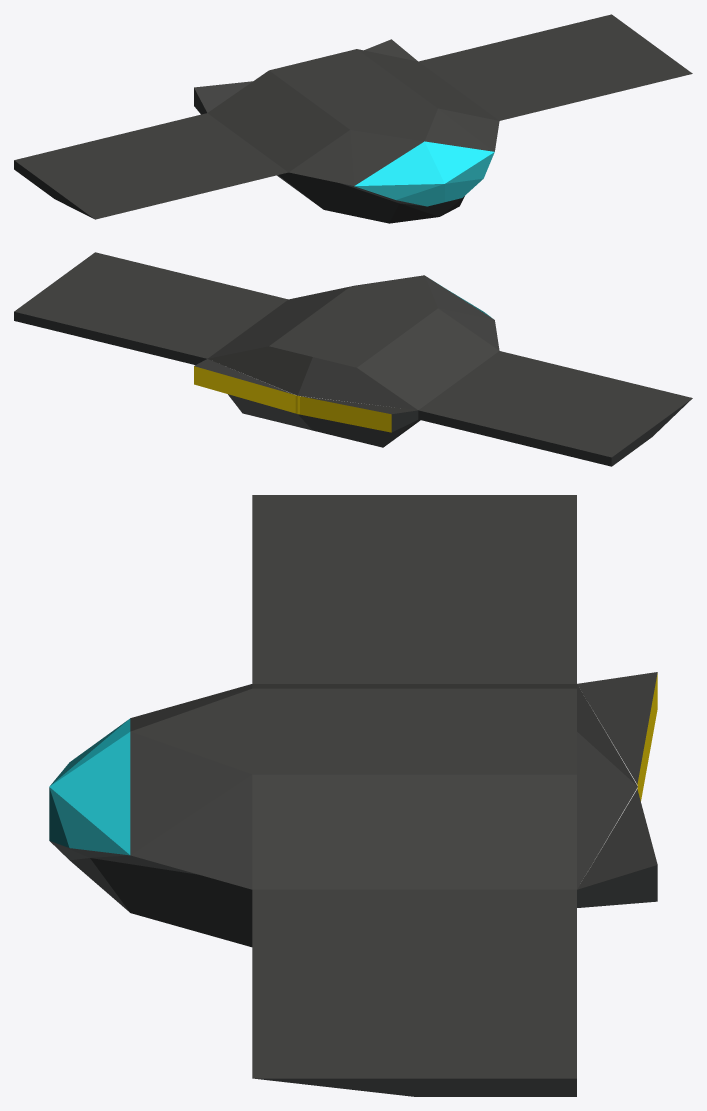
Rendered from elelestarfighter.gltf.
3 views of the same model, one above another, from view 1: azimuth 30°, elevation 25°; view 2: azimuth 150°, elevation 25°; view 3: azimuth 270°, elevation 25° (orthographic). The views are drawn at different scales.
Parts seen in each view (by area): view 1: cuboid; view 2: cuboid; view 3: cuboid.
Boxes of the visible parts, left/top/right/bottom form: cuboid: left=14, top=14, right=692, bottom=223; cuboid: left=14, top=252, right=692, bottom=466; cuboid: left=49, top=495, right=657, bottom=1096.
Bounding box in the file's own units: 4.25 × 0.5 × 1.87.
1 material, 1 textured.
